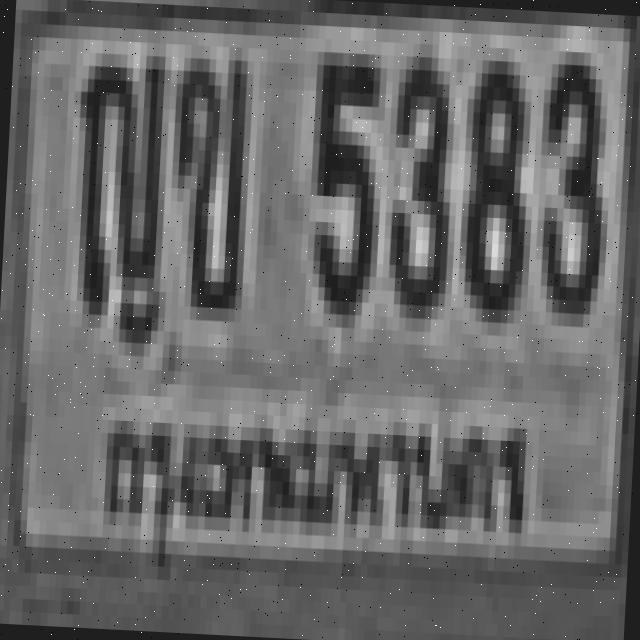11KhorKhai: (166, 51, 248, 302)
22YorYing: (70, 46, 166, 311)
3: (533, 51, 610, 315), (381, 43, 452, 307)
5: (305, 46, 382, 310)
8: (457, 47, 528, 311)
Bangkok: (90, 379, 544, 566)
